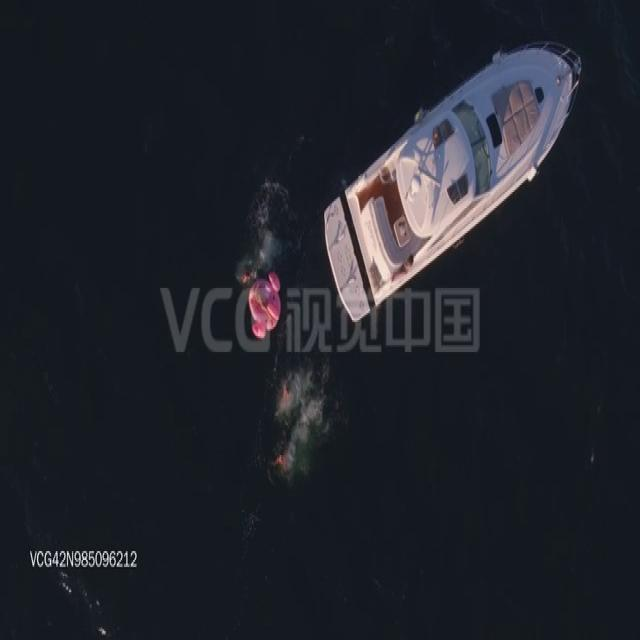houseboat: (320, 44, 583, 325)
